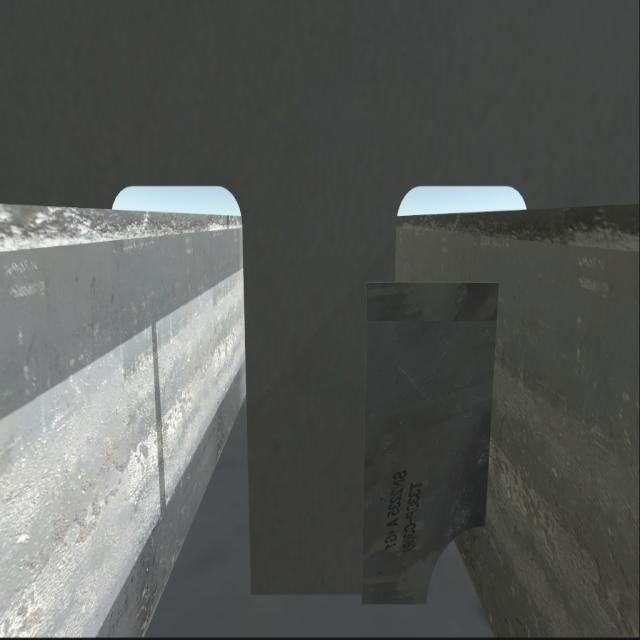fillet_hole: (425, 520, 487, 604)
fillet_yong_jeop_jang: (246, 582, 432, 606)
longi_yong_jeop_jang: (473, 275, 506, 528)
plate_CP01: (362, 284, 498, 610)
